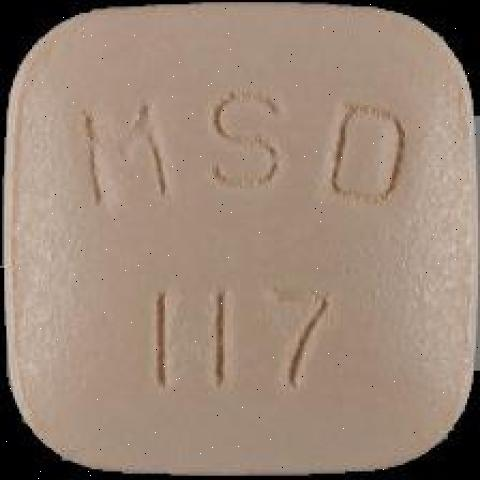Pill: (5, 3, 480, 480)
